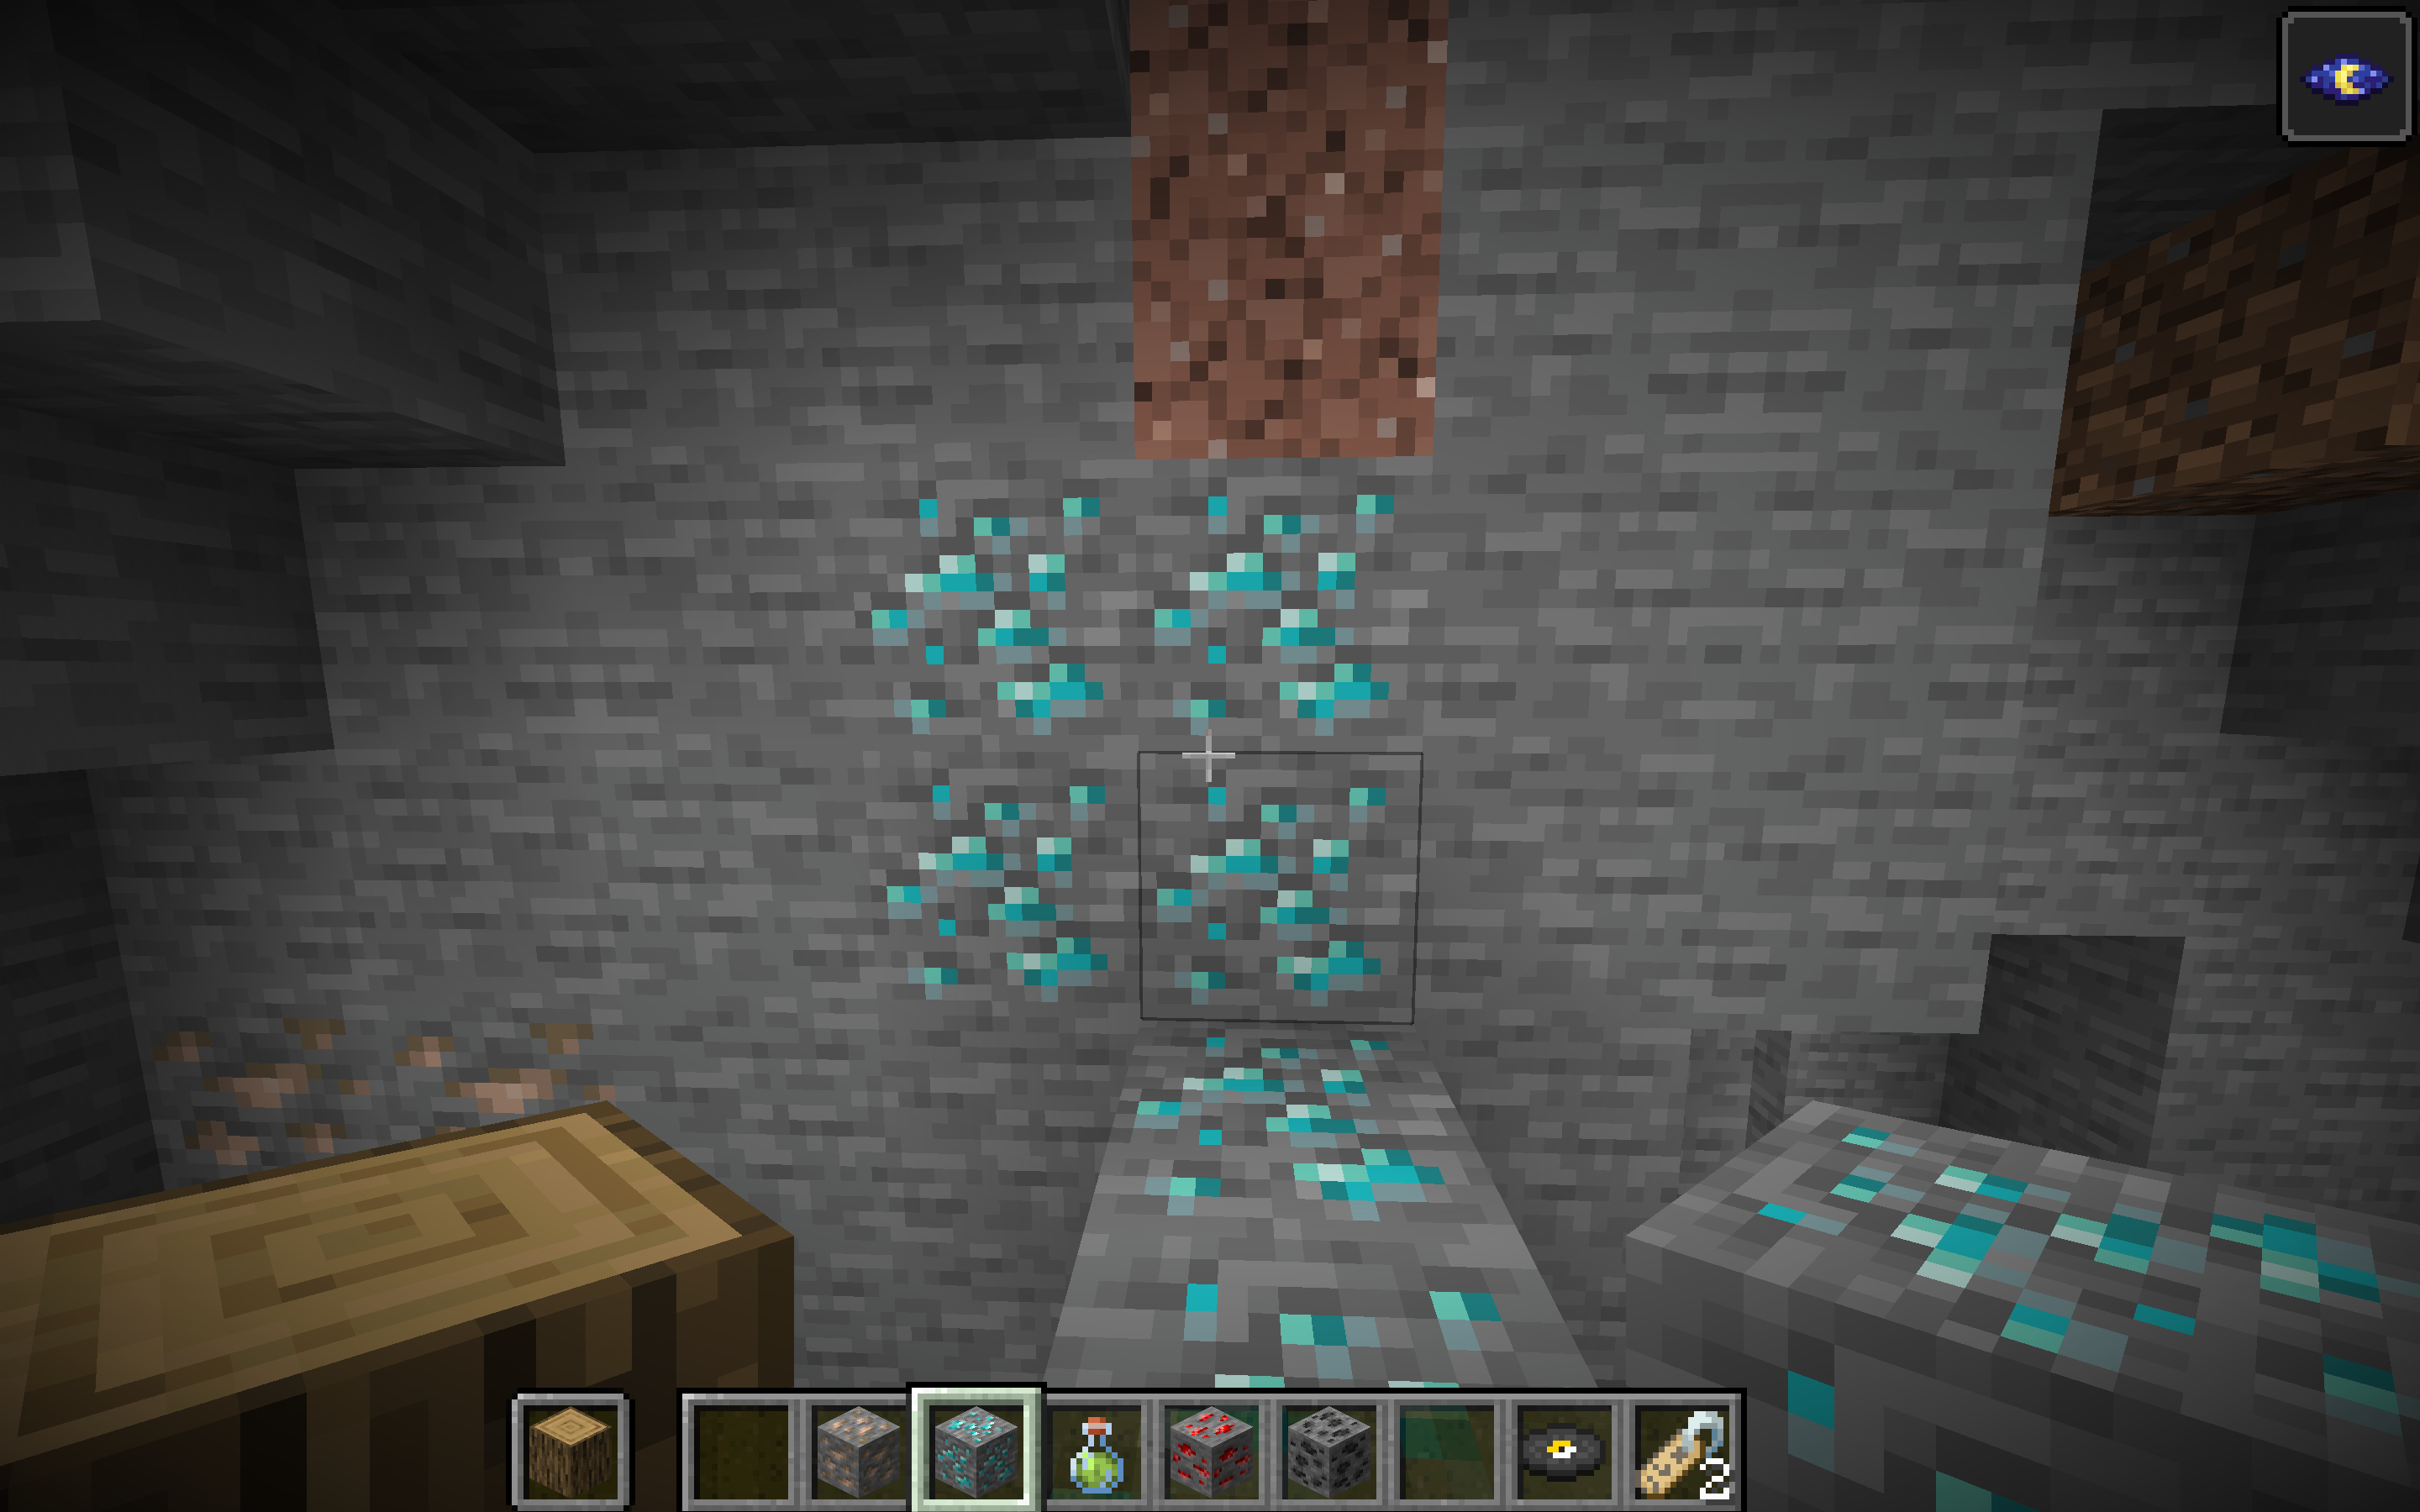diamond: (704, 373, 1871, 1040)
